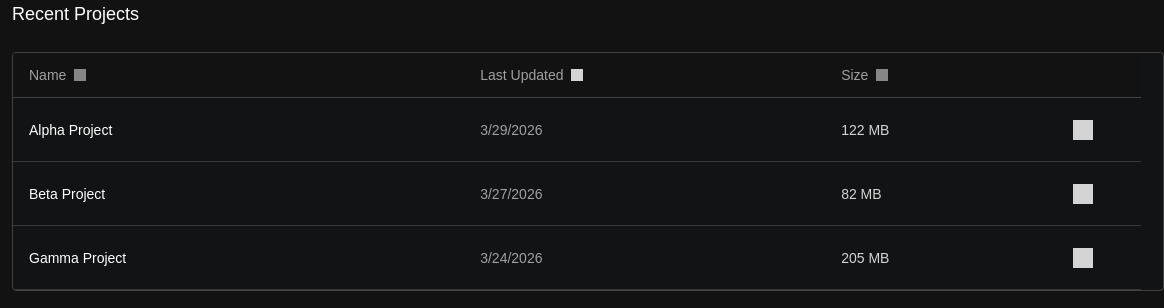
Test case: <ProjectsTable /> › closes the menu on Escape
This screenshot has width=1164, height=308.
Click the button named "Open actions for Alpha Project": {"x": 1083, "y": 130} [1067,114,1099,146]
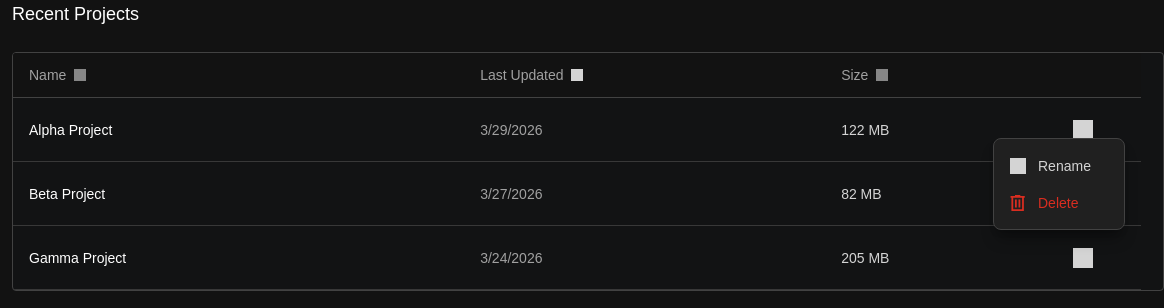
Now the menu is shown, box [993,138,1125,230]
Press Escape
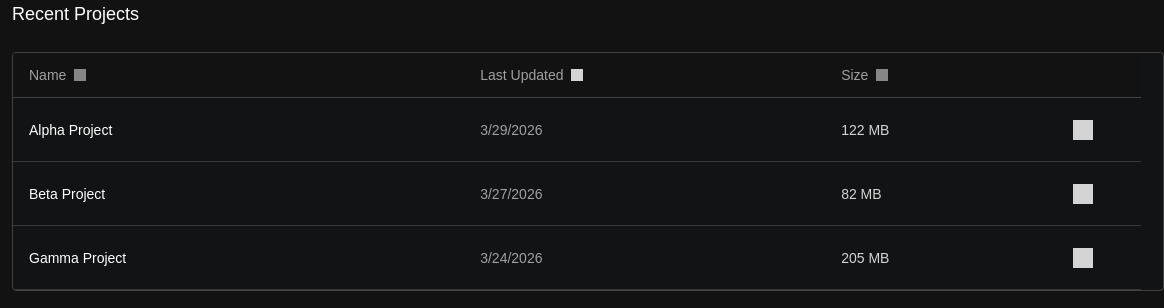
Now the menu is gone
